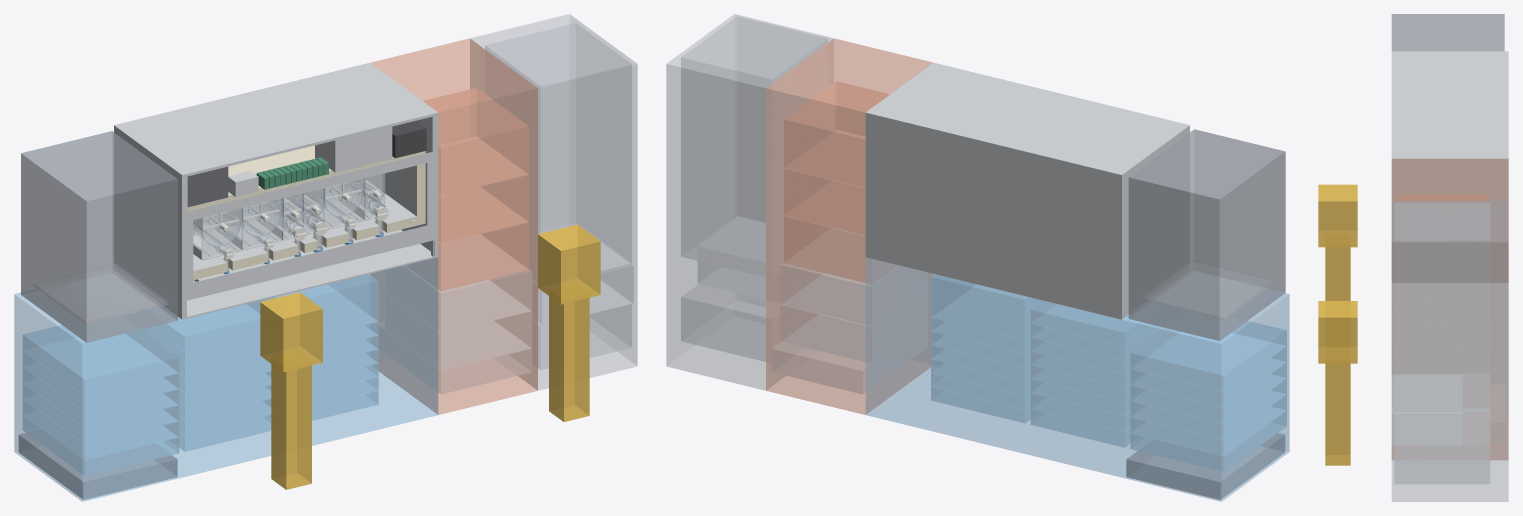
File: hat_v12.glb
3 renders of one model, left to right at view 1: azimuth 30°, elevation 25°; view 2: azimuth 150°, elevation 25°; view 3: azimuth 270°, elevation 25°, orthographic. The views are drawn at different scales.
Parts seen in each view (by area): view 1: B_KABIN, TOPPING_MODUL__sac, D_KABIN, E_KABIN, PRESS, E_SARJOR, FIRIN_3, CEK_K1_hamur_6, B_SOGUTMA, ROBOT_2, ROBOT_1, TOPPING_MODUL__pu (+39 smaller); view 2: B_KABIN, TOPPING_MODUL__sac, D_KABIN, E_KABIN, PRESS, E_SARJOR, FIRIN_3, CEK_K1_hamur_6, B_SOGUTMA, E_MEK, PRESS_PLAKA, CEK_K3_icecek_1 (+25 smaller); view 3: E_KABIN, TOPPING_MODUL__sac, E_SARJOR, D_KABIN, E_MEK, PRESS, ROBOT_2, ROBOT_1_KOL, ROBOT_2_KOL, E_AGZ, ROBOT_1, FIRIN_3.
Part boxes in pixels (bbox=[...]): B_KABIN: bbox=[14, 257, 438, 501]; TOPPING_MODUL__sac: bbox=[114, 62, 438, 319]; D_KABIN: bbox=[370, 38, 537, 414]; E_KABIN: bbox=[470, 14, 637, 390]; PRESS: bbox=[21, 131, 177, 342]; E_SARJOR: bbox=[485, 23, 631, 270]; FIRIN_3: bbox=[423, 88, 528, 195]; CEK_K1_hamur_6: bbox=[23, 325, 178, 395]; B_SOGUTMA: bbox=[18, 429, 177, 499]; ROBOT_2: bbox=[549, 283, 589, 421]; ROBOT_1: bbox=[271, 351, 311, 489]; TOPPING_MODUL__pu: bbox=[187, 145, 425, 280]; B_KABIN: bbox=[865, 257, 1289, 501]; TOPPING_MODUL__sac: bbox=[865, 62, 1189, 319]; D_KABIN: bbox=[766, 38, 933, 414]; E_KABIN: bbox=[666, 14, 833, 390]; PRESS: bbox=[1128, 129, 1285, 340]; E_SARJOR: bbox=[681, 16, 827, 277]; FIRIN_3: bbox=[784, 81, 889, 187]; CEK_K1_hamur_6: bbox=[1130, 321, 1286, 391]; B_SOGUTMA: bbox=[1126, 429, 1285, 499]; E_MEK: bbox=[681, 284, 765, 361]; PRESS_PLAKA: bbox=[1141, 259, 1275, 320]; CEK_K3_icecek_1: bbox=[931, 274, 1042, 339]; E_KABIN: bbox=[1391, 200, 1508, 501]; TOPPING_MODUL__sac: bbox=[1391, 51, 1508, 282]; E_SARJOR: bbox=[1394, 203, 1489, 411]; D_KABIN: bbox=[1392, 158, 1508, 459]; E_MEK: bbox=[1394, 412, 1489, 483]; PRESS: bbox=[1391, 14, 1504, 51]; ROBOT_2: bbox=[1325, 363, 1350, 465]; ROBOT_1_KOL: bbox=[1318, 184, 1357, 247]; ROBOT_2_KOL: bbox=[1318, 301, 1357, 363]; E_AGZ: bbox=[1392, 375, 1461, 444]; ROBOT_1: bbox=[1325, 234, 1350, 300]; FIRIN_3: bbox=[1397, 195, 1487, 200].
Size of the model in its own units: 3.9 by 2.03 by 1.35.
